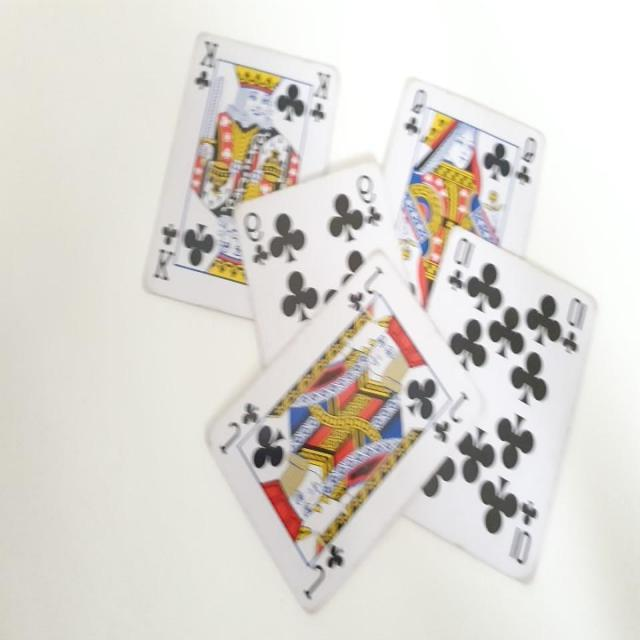10 of clubs: (396, 226, 600, 582)
9 of clubs: (230, 152, 400, 367)
jack of clubs: (207, 248, 487, 612)
king of clubs: (140, 31, 345, 319)
queen of clubs: (382, 78, 546, 302)
